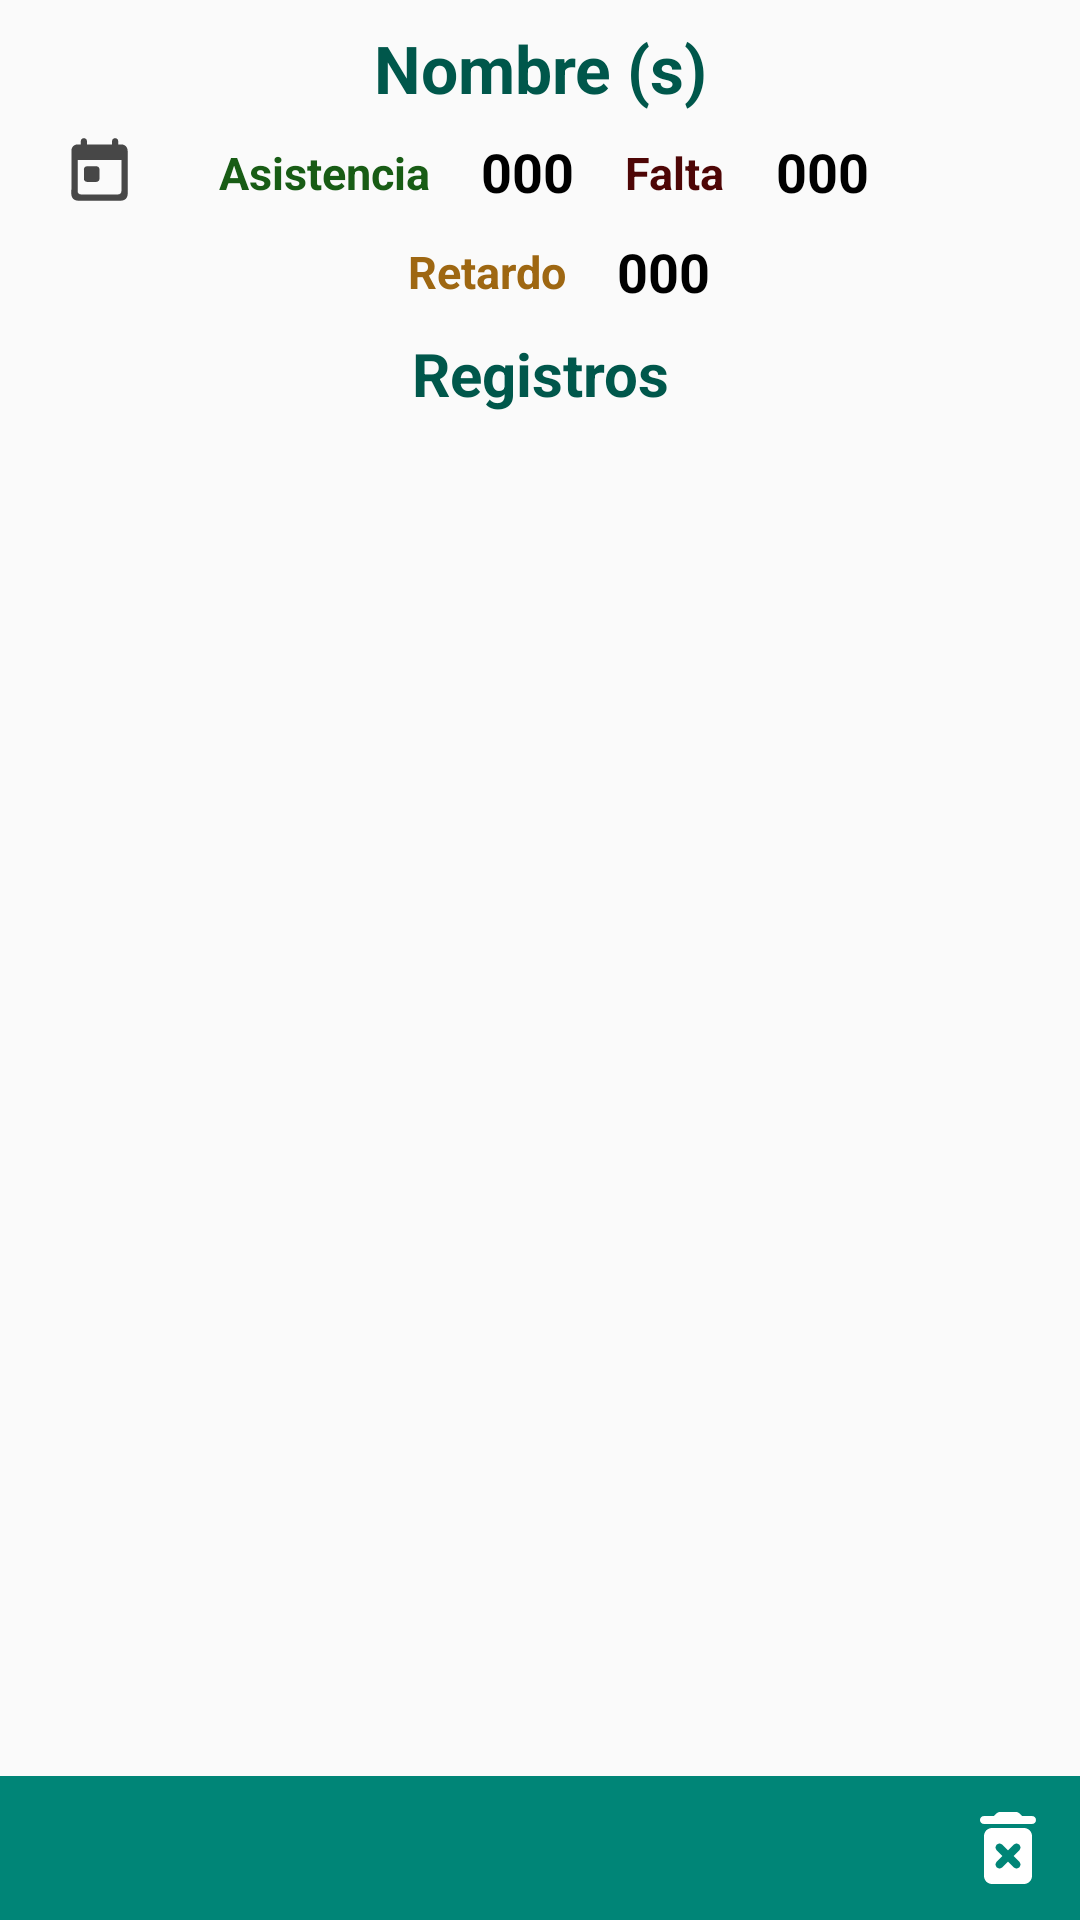

Point at icon controls on the screen. Image size 1080px x 1920px, points as (x,y).
calendario: (99,169)
